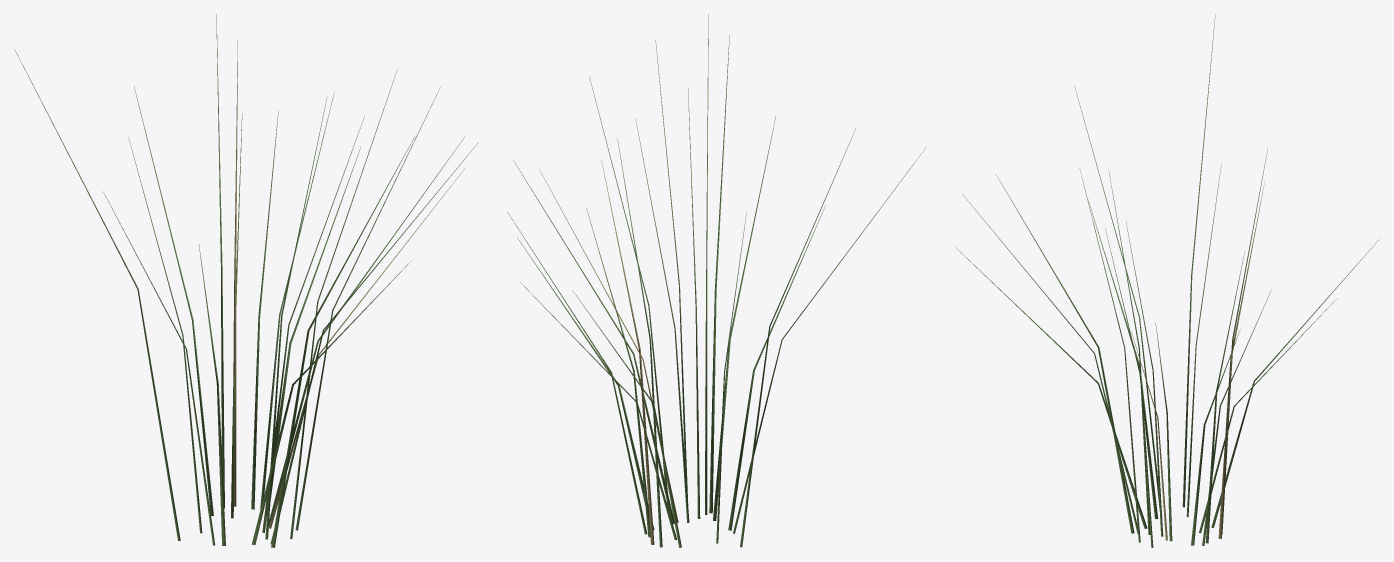
The model's file is Woodland_Rush_Clump_02_LOD2.fbx.
3 views of the same model, side by side, from view 1: azimuth 30°, elevation 25°; view 2: azimuth 150°, elevation 25°; view 3: azimuth 270°, elevation 25° (orthographic). The views are drawn at different scales.
Parts seen in each view (by area): view 1: Woodland_Rush_Clump_02_LOD2_Foliage; view 2: Woodland_Rush_Clump_02_LOD2_Foliage; view 3: Woodland_Rush_Clump_02_LOD2_Foliage.
Boxes of the visible parts, box(x1,y1,x2,y2) form: Woodland_Rush_Clump_02_LOD2_Foliage: box(14, 14, 478, 547); Woodland_Rush_Clump_02_LOD2_Foliage: box(507, 14, 926, 547); Woodland_Rush_Clump_02_LOD2_Foliage: box(955, 14, 1379, 547).
Bounding box in the file's own units: 92.9 × 110 × 97.54.
